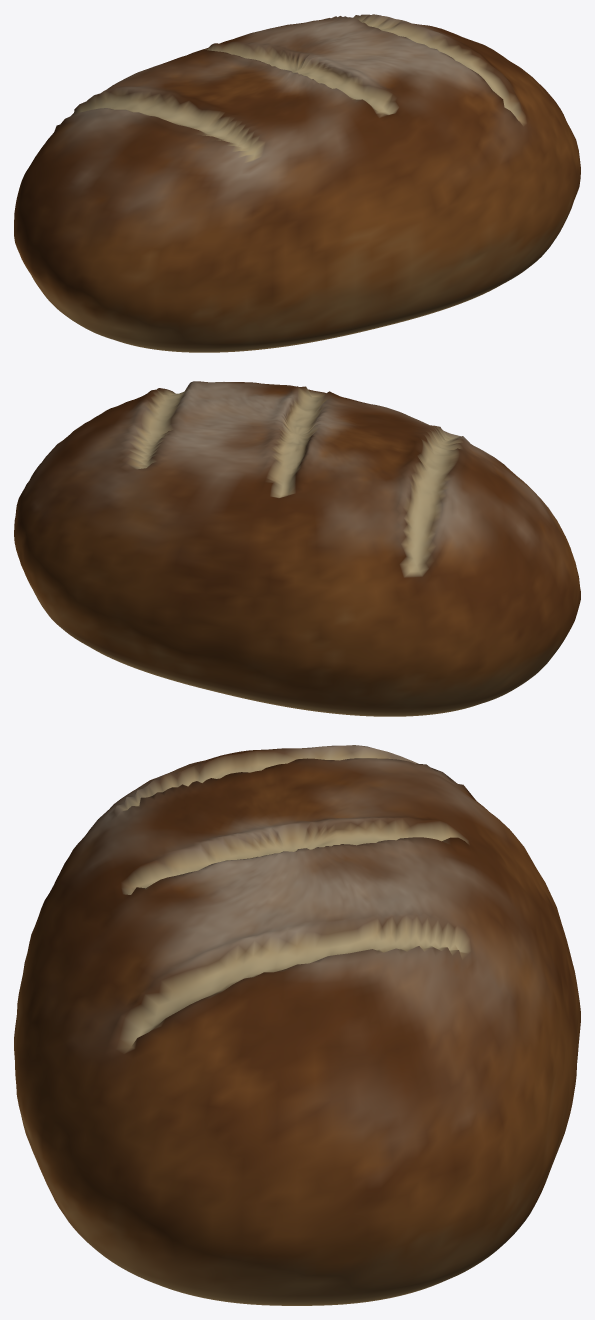
File: mischbrot-1000g.glb
3 views of the same model, one above another, from view 1: azimuth 30°, elevation 25°; view 2: azimuth 150°, elevation 25°; view 3: azimuth 270°, elevation 25° (orthographic). The views are drawn at different scales.
Parts seen in each view (by area): view 1: mischbrot-1000g; view 2: mischbrot-1000g; view 3: mischbrot-1000g.
Boxes of the visible parts, x1=… form: mischbrot-1000g: x1=14, y1=14, x2=580, y2=352; mischbrot-1000g: x1=14, y1=381, x2=580, y2=716; mischbrot-1000g: x1=14, y1=745, x2=580, y2=1305.
Bounding box in the file's own units: 0.2772 × 0.1071 × 0.1764.
